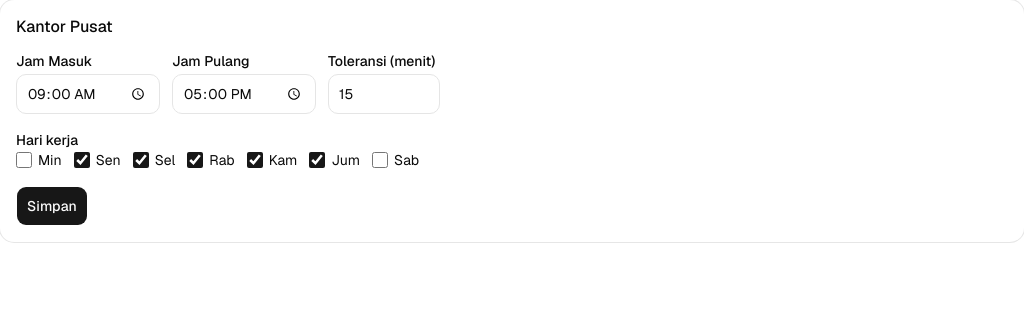
ScheduleForm › shows an error from a failed save
This screenshot has width=1024, height=314.
Click the button "Simpan" at (52, 206), box [16,186,88,226]
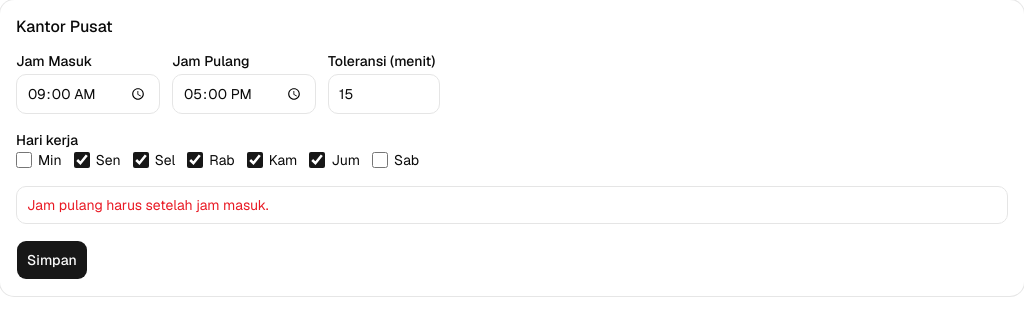
Expected: the text "Jam pulang harus setelah jam masuk." is shown, [27,196,269,214]
